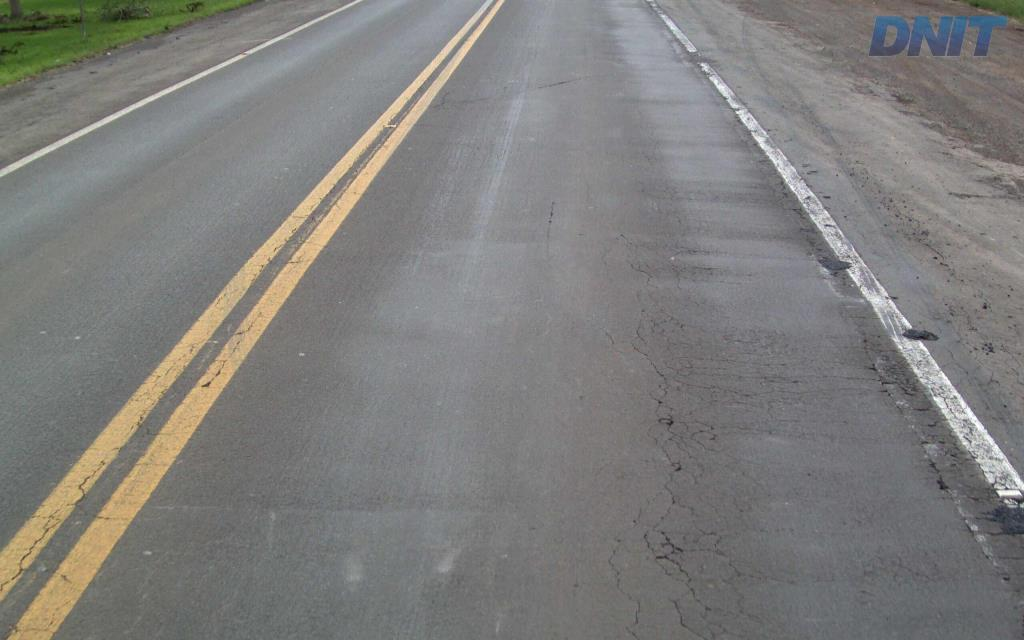crack: (975, 500, 1023, 537)
